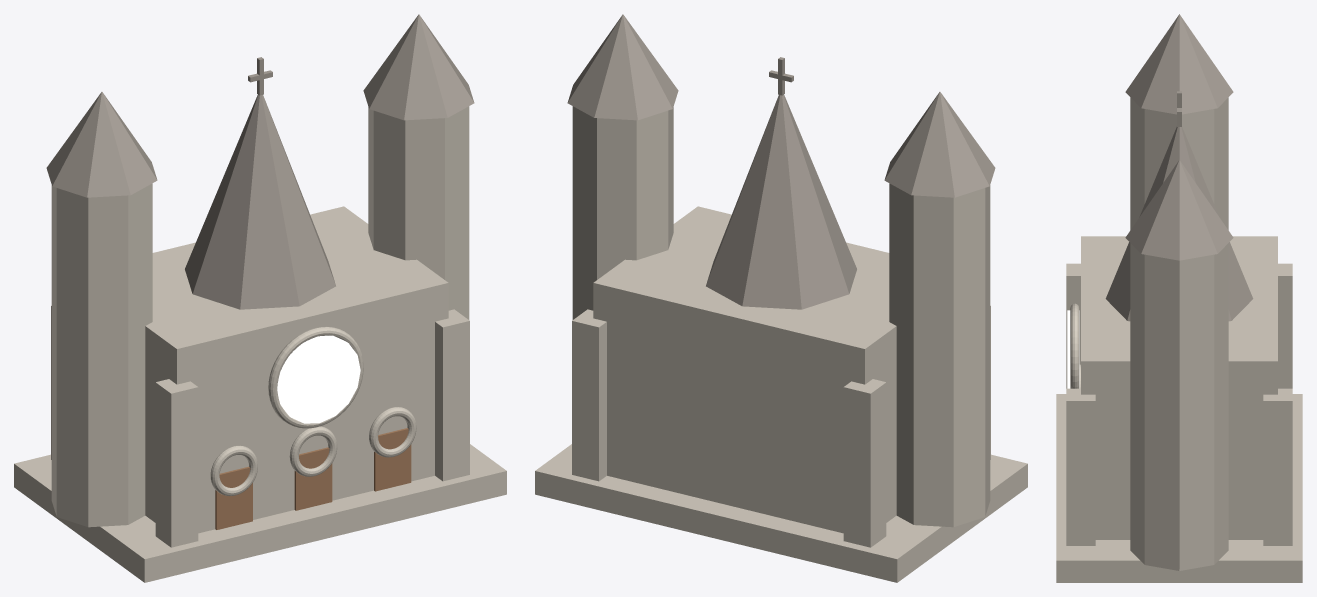
The model's file is CathedralFacade.fbx.
3 renders of one model, left to right at view 1: azimuth 30°, elevation 25°; view 2: azimuth 150°, elevation 25°; view 3: azimuth 270°, elevation 25°, orthographic. The views are drawn at different scales.
Visible parts, largest first — view 1: CathedralFacade; view 2: CathedralFacade; view 3: CathedralFacade.
Boxes of the visible parts, left/top/right/bottom form: CathedralFacade: left=14, top=14, right=506, bottom=582; CathedralFacade: left=535, top=14, right=1027, bottom=582; CathedralFacade: left=1056, top=14, right=1302, bottom=582.
Size of the model in its own units: 18.4 by 18.5 by 10.
